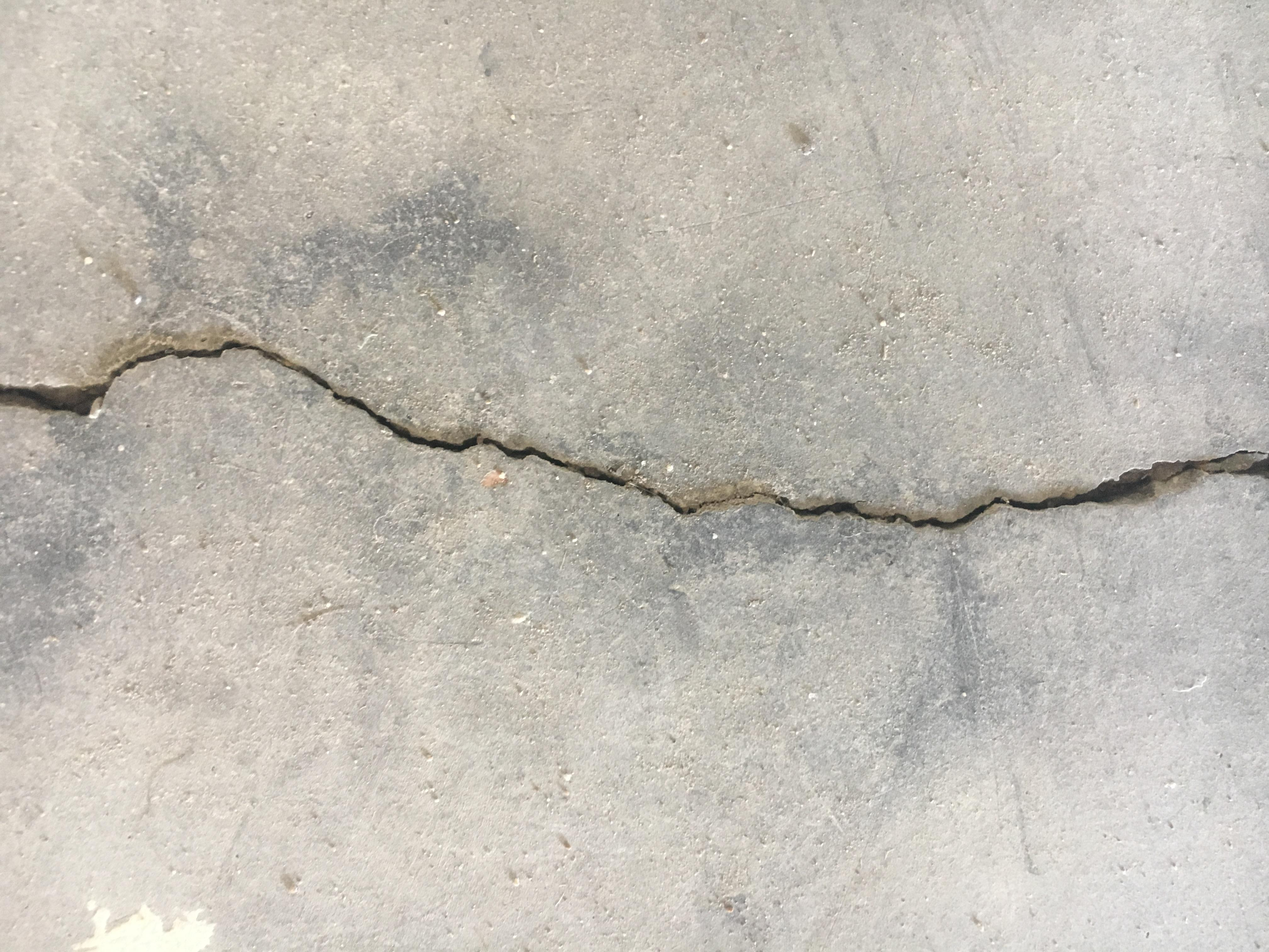Horizontal Settlement Crack: (4, 329, 1266, 531)
